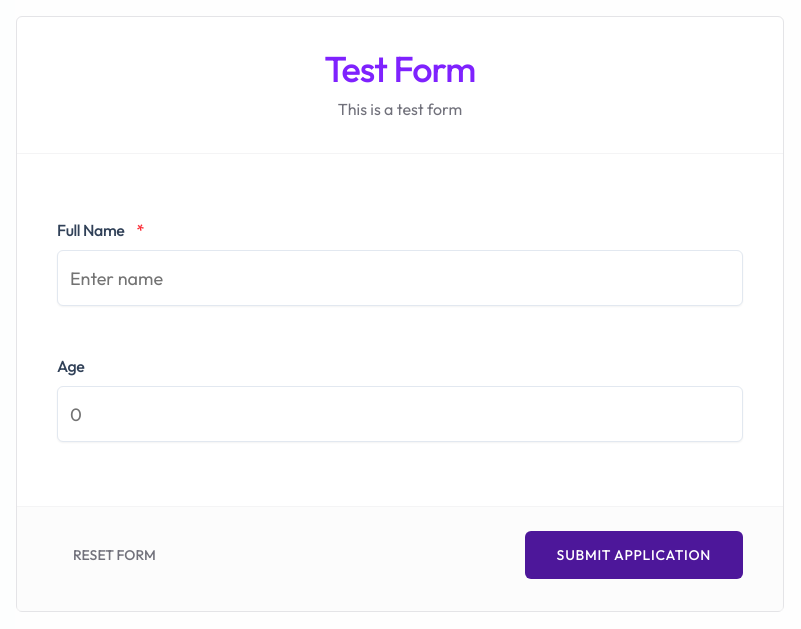
OnboardingForm Component › shows validation error when submitting empty required field
The image size is (801, 629).
Click the button "SUBMIT APPLICATION": coordinates (634, 555) [524,531,743,579]
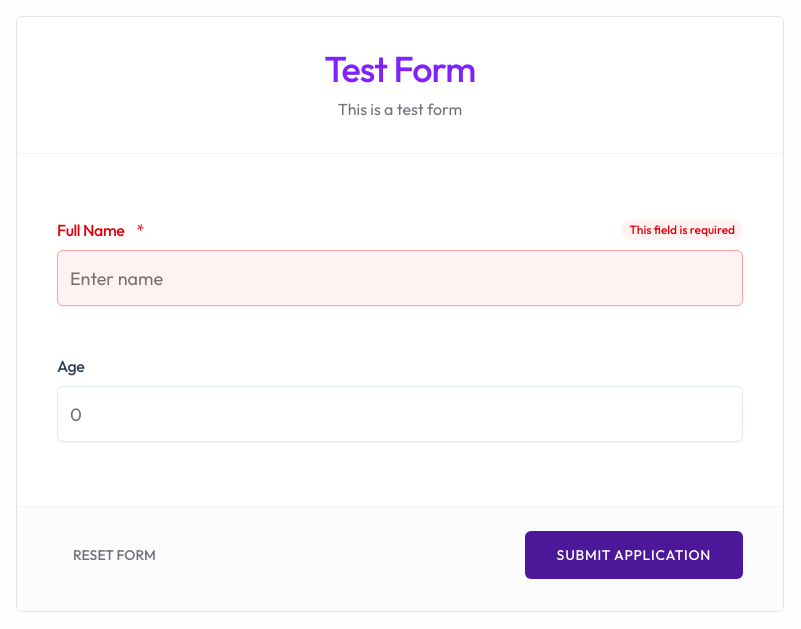
Expected: the text "This field is required" is shown, [621,220,743,240]
